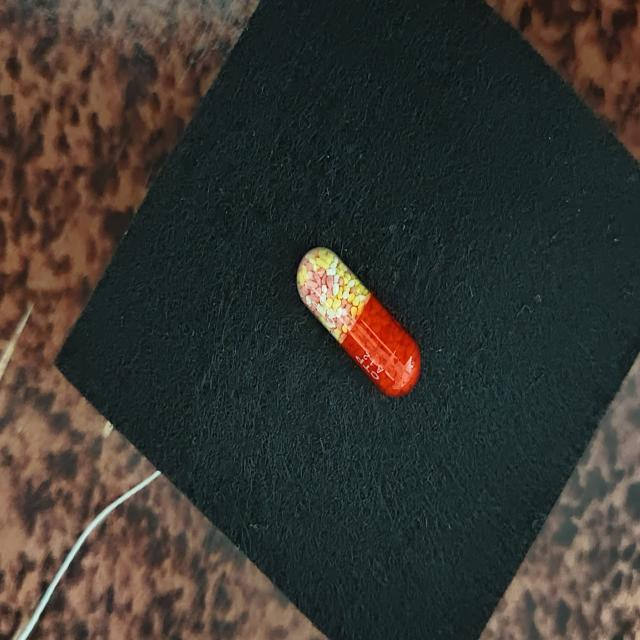Intact Capsule: (297, 247, 421, 397)
